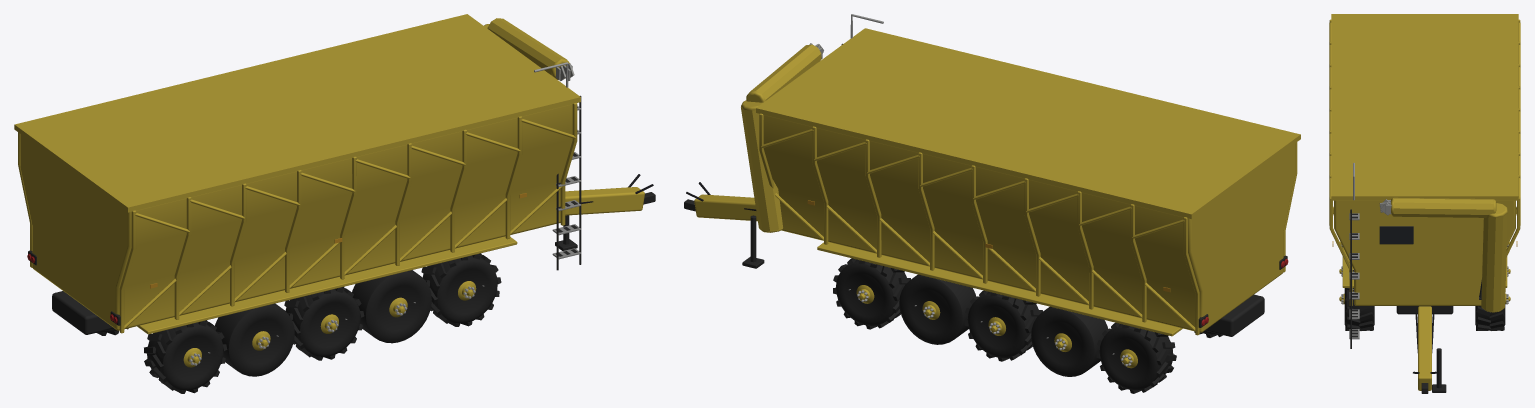
The model's file is SM_Prop_farm_chaser_0.glb.
3 renders of one model, left to right at view 1: azimuth 30°, elevation 25°; view 2: azimuth 150°, elevation 25°; view 3: azimuth 270°, elevation 25°, orthographic. The views are drawn at different scales.
Visible parts, largest first — view 1: SM_Prop_farm_chaser_0; view 2: SM_Prop_farm_chaser_0; view 3: SM_Prop_farm_chaser_0.
Boxes of the visible parts, box(x1,y1,x2,y2) form: SM_Prop_farm_chaser_0: box(14, 14, 655, 393); SM_Prop_farm_chaser_0: box(684, 14, 1300, 393); SM_Prop_farm_chaser_0: box(1329, 14, 1520, 393).
Size of the model in its own units: 9.82 by 3.77 by 3.37.
